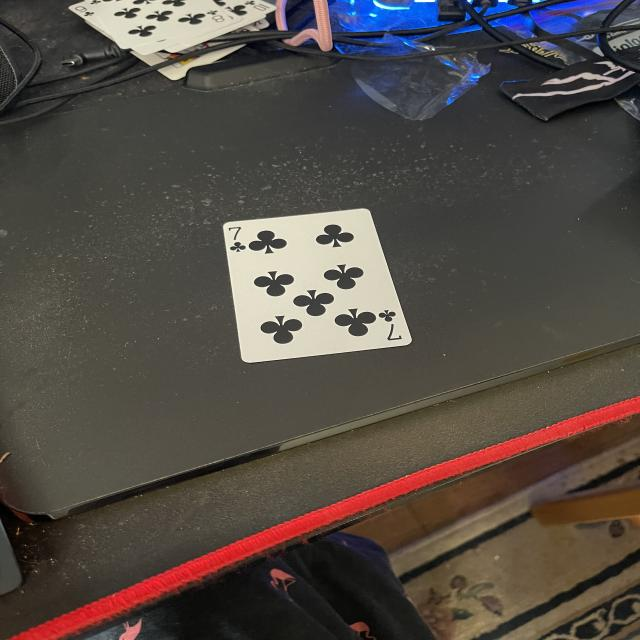7 of clubs: (196, 197, 410, 380)
